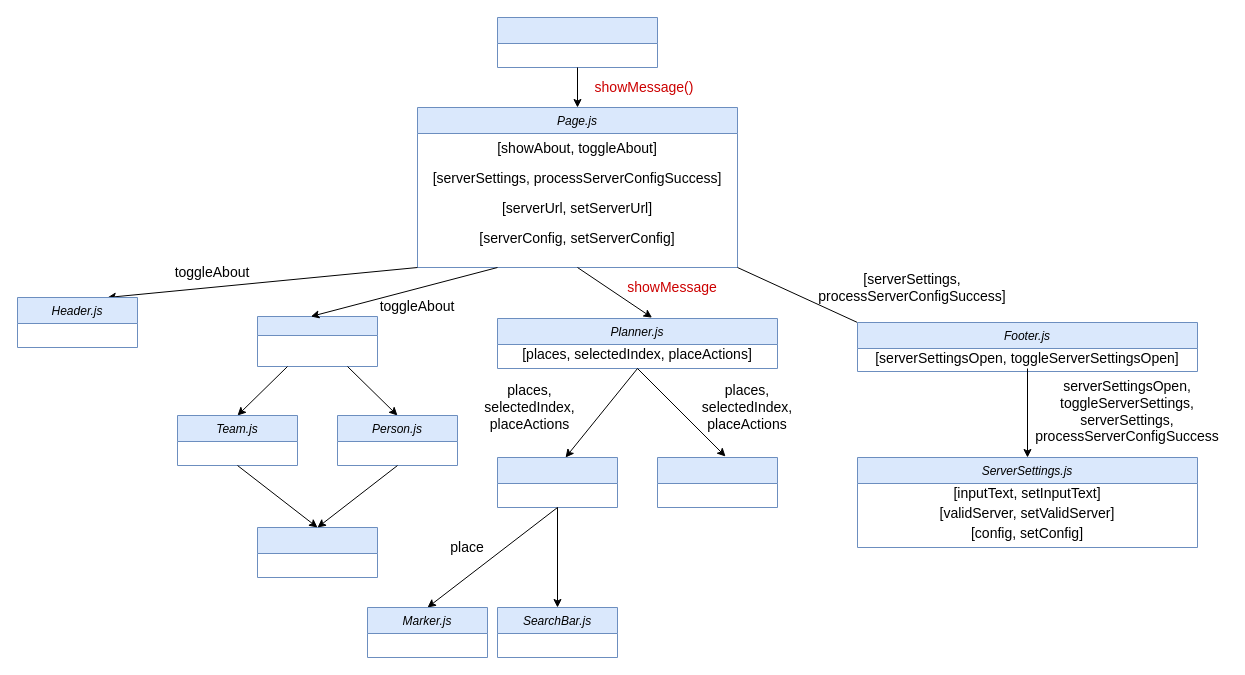
This 1245x675 diagram has some shape labels left out. Here are the shapes that lost their labels. From the top down, the centre of each, then its label:
the point at 577,42: App.js
the point at 317,341: About.js
the point at 557,482: Map.js
the point at 717,482: Itinerary.js
the point at 317,552: AboutCard.js
